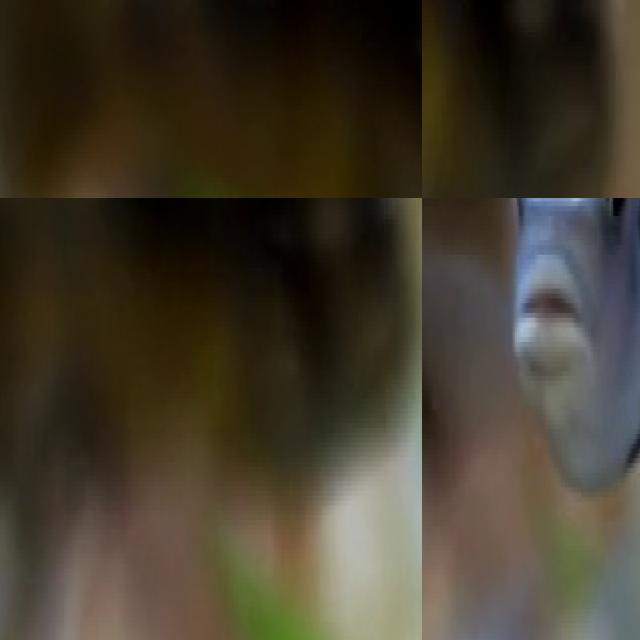fish: (0, 0, 422, 198), (422, 0, 638, 198)
